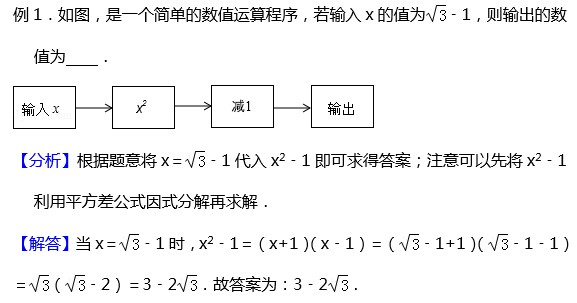sqrt: (327, 272, 356, 297), (487, 230, 516, 253), (399, 230, 422, 253), (64, 273, 86, 297), (176, 272, 199, 294), (30, 272, 51, 295), (121, 231, 141, 255), (428, 2, 448, 24), (188, 148, 208, 169)
square: (536, 149, 543, 163), (207, 235, 217, 244), (140, 96, 148, 107), (278, 152, 286, 161)
